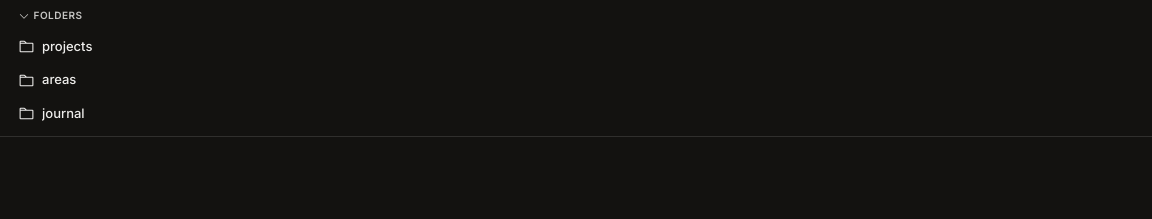
Scenario: FolderTree › expands children when single-clicking a folder row with children
Click the button with test id "folder-row:projects". click: {"x": 67, "y": 46}
box: [6,31,1146,62]
Wait 180 ms
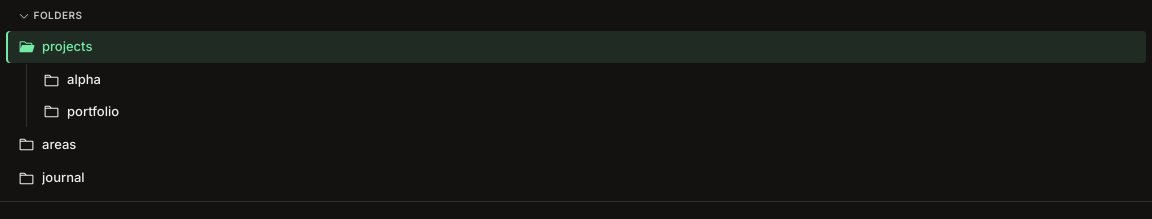
Now the text "alpha" is shown, box [67,70,101,90]
Now the text "portfolio" is shown, box [67,102,119,121]
Click the button with test id "folder-row:projects". click: {"x": 67, "y": 46}
box: [6,31,1146,62]
Wait 180 ms
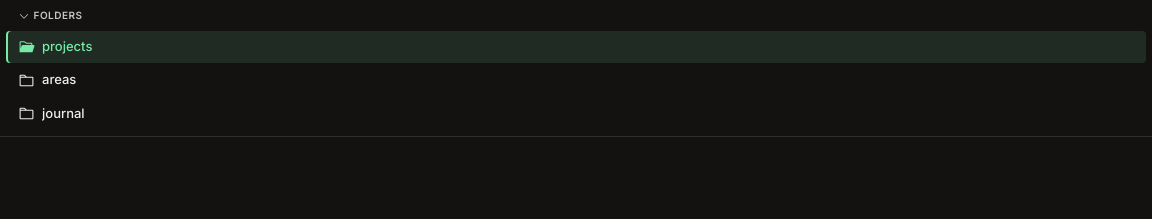
Now the button "alpha" is gone
